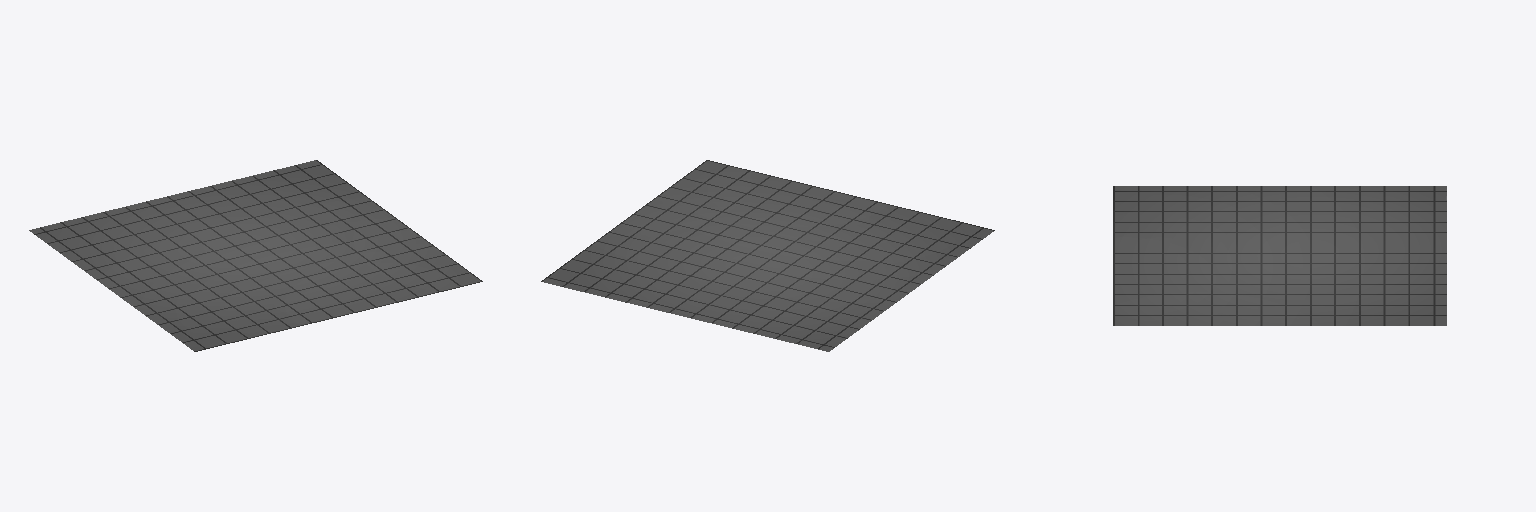
3 views of the same model, side by side, from view 1: azimuth 30°, elevation 25°; view 2: azimuth 150°, elevation 25°; view 3: azimuth 270°, elevation 25° (orthographic).
Visible parts, largest first — view 1: 平面; view 2: 平面; view 3: 平面.
Boxes of the visible parts, <box> form: 平面: <box>29,160,482,351</box>; 平面: <box>541,160,994,351</box>; 平面: <box>1113,186,1446,325</box>.
Size of the model in its own units: 6 by 0 by 6.
1 materials, 1 textured.